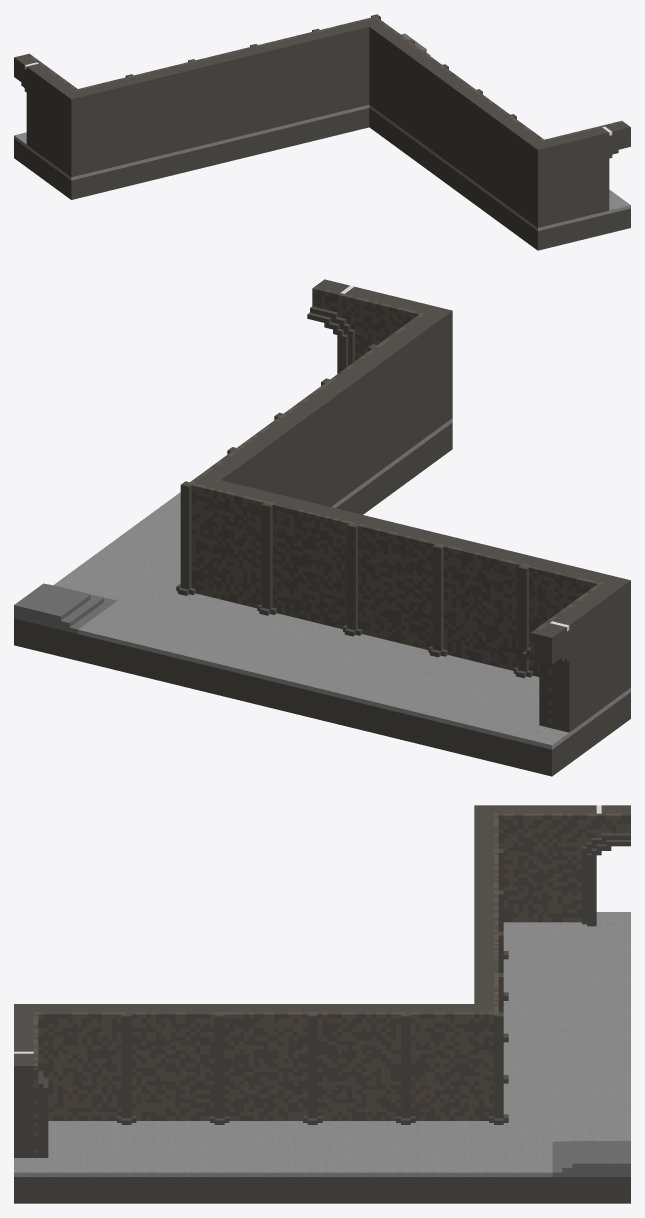
Rendered from CrossRoom-3.obj.
3 renders of one model, top to bottom at view 1: azimuth 30°, elevation 25°; view 2: azimuth 150°, elevation 25°; view 3: azimuth 270°, elevation 25°, orthographic. The views are drawn at different scales.
Size of the model in its own units: 12.6 by 3.1 by 12.6.
